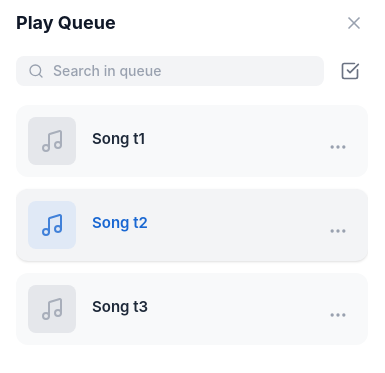
Scenario: QueuePanel content › Escape khi row menu mở → chỉ menu đóng, drawer KHÔNG đóng (QP-3)
Expected: the text "Song t1" is shown, [16,105,368,189]
Click the button named "More actions" in the row of "Song t1" at (338, 147), box [320,129,356,165]
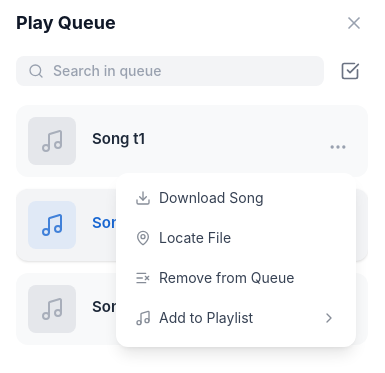
Expected: the menu is shown, [116,173,356,347]
Press Escape
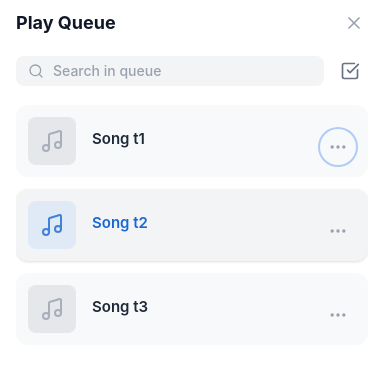
Expected: the menu item is gone
